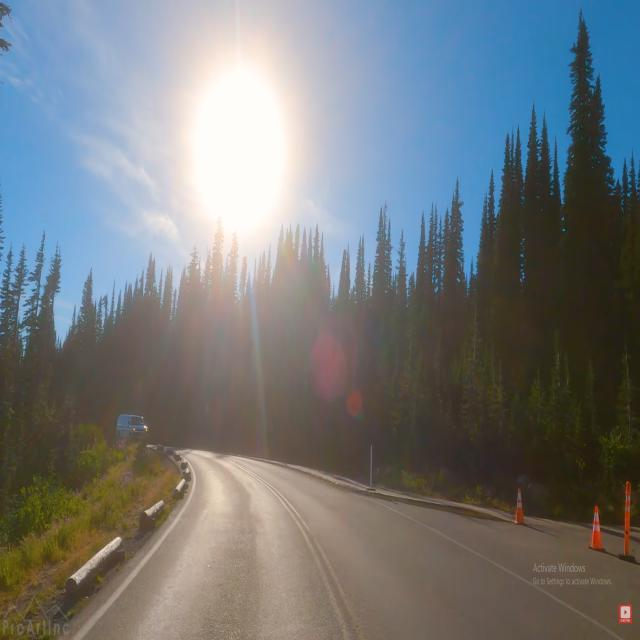sun: (161, 32, 313, 272)
